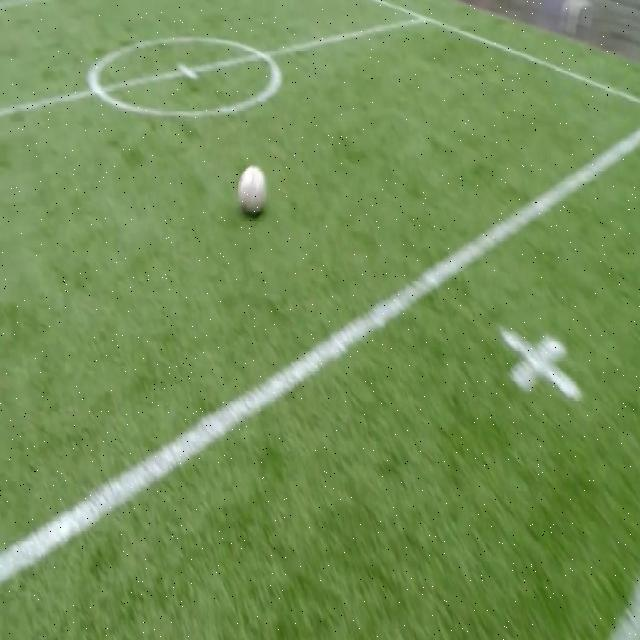ball: (238, 166, 268, 215)
